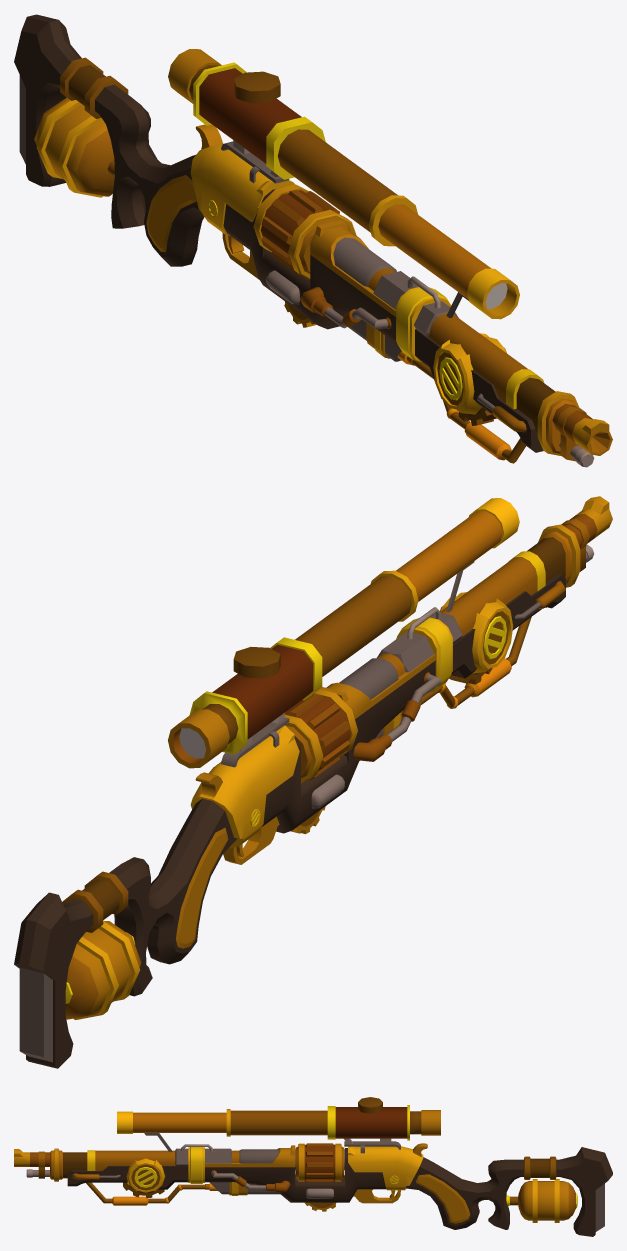
Rendered from WEAPON_SR_05_G00.fbx.
3 views of the same model, one above another, from view 1: azimuth 30°, elevation 25°; view 2: azimuth 150°, elevation 25°; view 3: azimuth 270°, elevation 25° (orthographic). The views are drawn at different scales.
Parts seen in each view (by area): view 1: WEAPON_SR_05_G00; view 2: WEAPON_SR_05_G00; view 3: WEAPON_SR_05_G00.
Boxes of the visible parts, x1=… form: WEAPON_SR_05_G00: x1=14, y1=14, x2=612, y2=467; WEAPON_SR_05_G00: x1=14, y1=496, x2=612, y2=1068; WEAPON_SR_05_G00: x1=14, y1=1097, x2=612, y2=1236.
Size of the model in its own units: 1.6 by 4.97 by 20.44.
